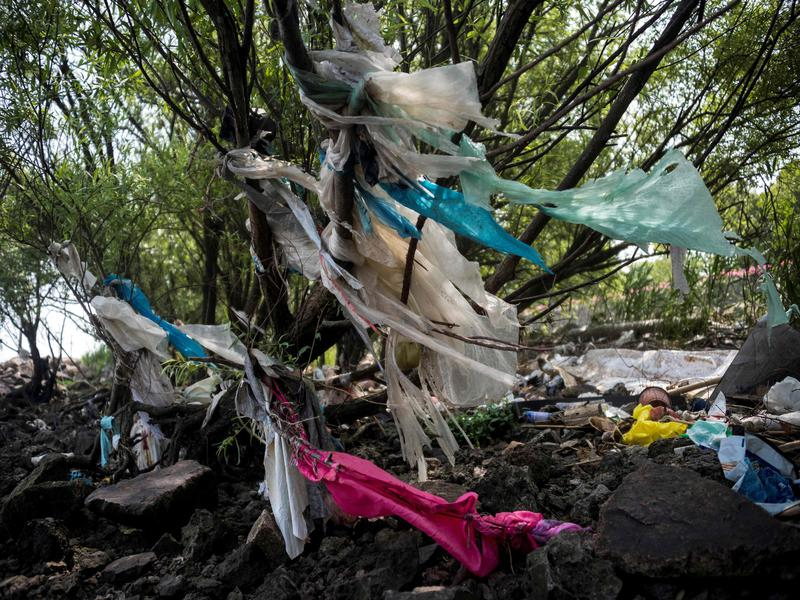plastic: (445, 139, 776, 266), (348, 228, 525, 410), (366, 54, 501, 142), (72, 294, 173, 361)
